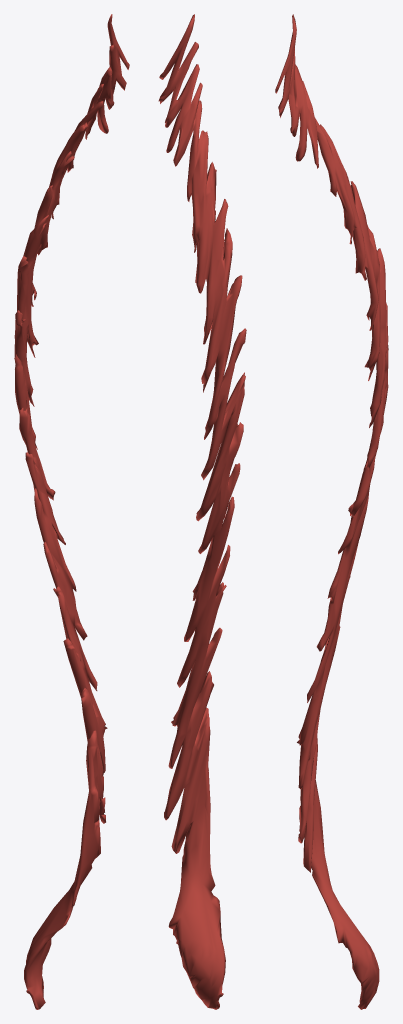
File: musculos-rotatores-l.glb
3 renders of one model, left to right at view 1: azimuth 90°, elevation 25°; view 2: azimuth 210°, elevation 25°; view 3: azimuth 270°, elevation 25°, orthographic. The views are drawn at different scales.
Parts seen in each view (by area): view 1: Rotatores.l; view 2: Rotatores.l; view 3: Rotatores.l.
Part boxes in pixels (box(x1,y1,x2,y2)): Rotatores.l: box(14, 14, 129, 1009); Rotatores.l: box(158, 14, 246, 1009); Rotatores.l: box(275, 14, 388, 1009).
Size of the model in its own units: 0.0382 by 0.6354 by 0.0662.
